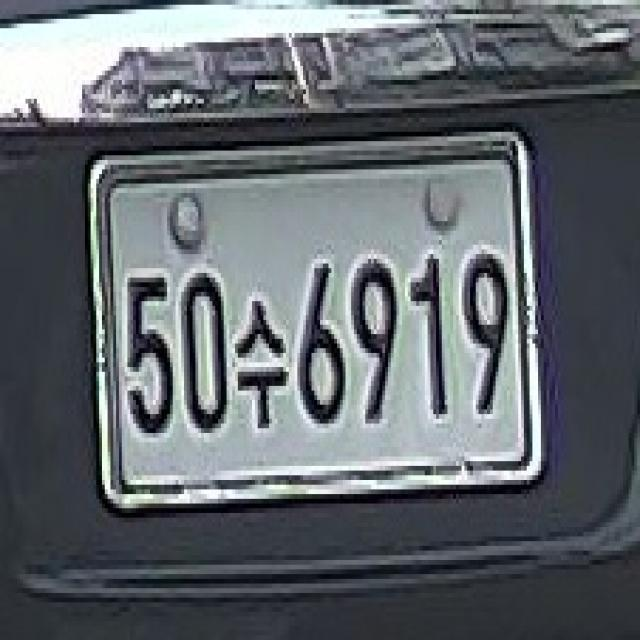0: (174, 263, 229, 456)
1: (408, 240, 451, 430)
5: (121, 264, 172, 456)
6: (298, 248, 346, 437)
9: (350, 244, 406, 446), (462, 238, 510, 426)
license_plate: (86, 159, 540, 512)
su: (231, 276, 287, 449)
